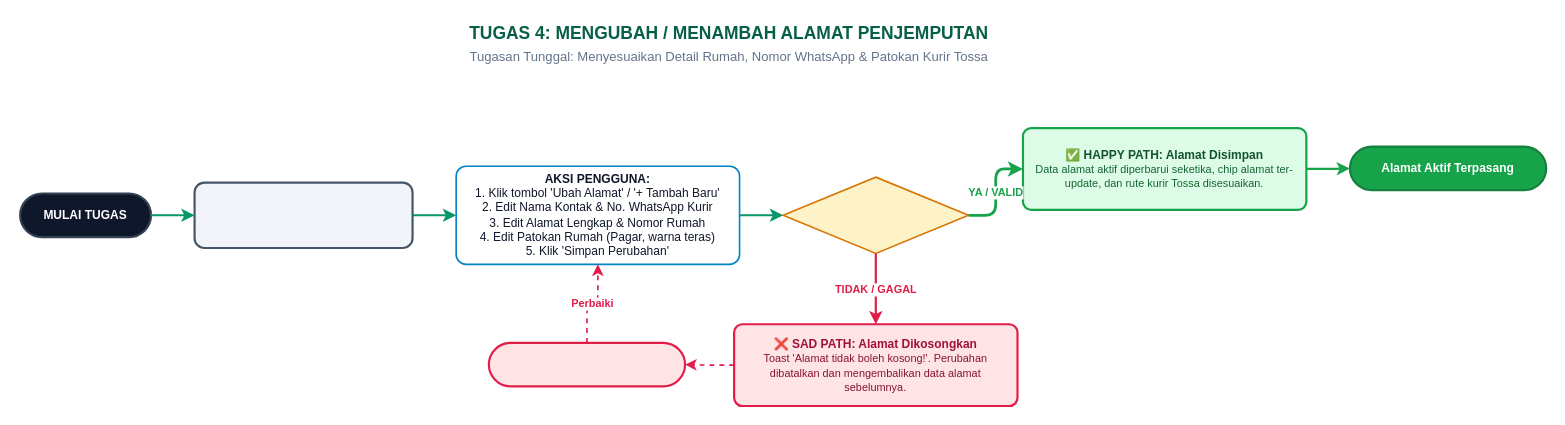
Some shapes in this 1565 by 425 pixel diagram are drawn without their labels. The shapes that lost their labels are listed below. From the top down, each one's centre as x and y in pixels, then its label:
pixel 303 215: LAYAR: Tab 'Setor' ➔ Form 'AddressSection.jsx'
pixel 875 215: Alamat Jalan & No. WhatsApp Diisi?
pixel 586 364: Batal / Reset Alamat
